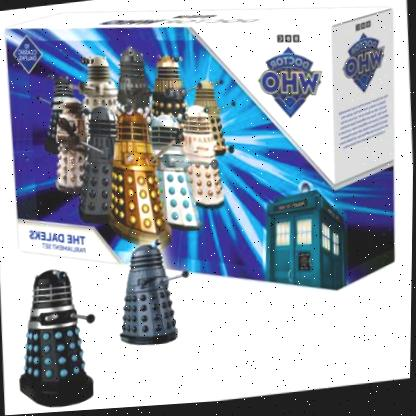dalek: (4, 255, 115, 413), (101, 233, 193, 359), (95, 106, 172, 247), (141, 103, 209, 232), (64, 99, 131, 226), (182, 96, 233, 217), (50, 89, 103, 191), (71, 49, 119, 113), (108, 43, 149, 115), (146, 49, 189, 108), (190, 75, 231, 115), (53, 71, 77, 96)
